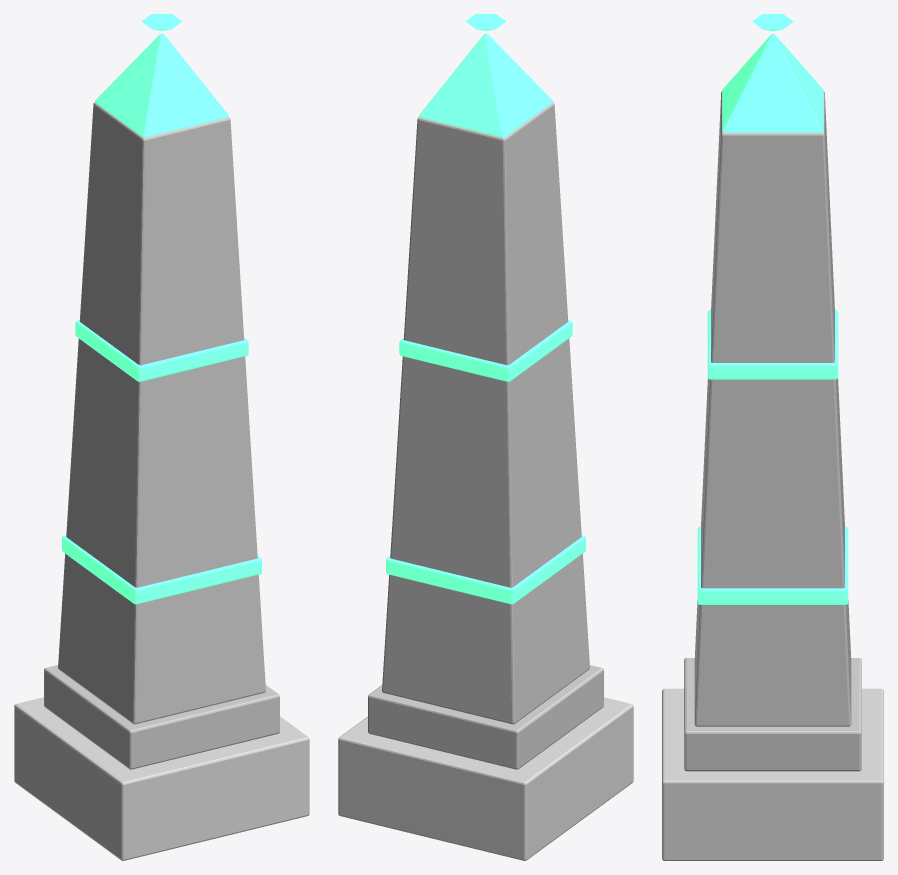
The model's file is china_checkpoint.fbx.
The picture shows the model from 3 angles, left to right: view 1: azimuth 30°, elevation 25°; view 2: azimuth 150°, elevation 25°; view 3: azimuth 270°, elevation 25°; orthographic projection.
Visible parts, largest first — view 1: china_checkpoint; view 2: china_checkpoint; view 3: china_checkpoint.
Part boxes in pixels (box(x1,y1,x2,y2)): china_checkpoint: box(14, 14, 309, 860); china_checkpoint: box(338, 14, 633, 860); china_checkpoint: box(662, 14, 883, 860).
Size of the model in its own units: 1 by 3.95 by 1.
